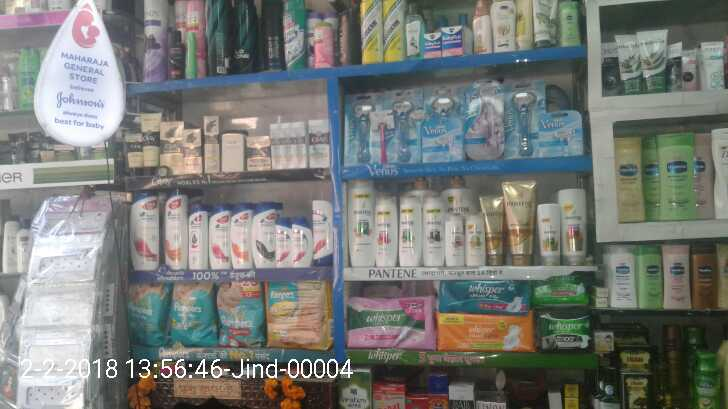venus: (464, 84, 502, 159), (505, 82, 534, 158), (539, 113, 583, 154), (396, 95, 422, 162), (422, 120, 460, 162), (351, 99, 370, 163), (371, 112, 392, 162), (428, 87, 461, 114)
